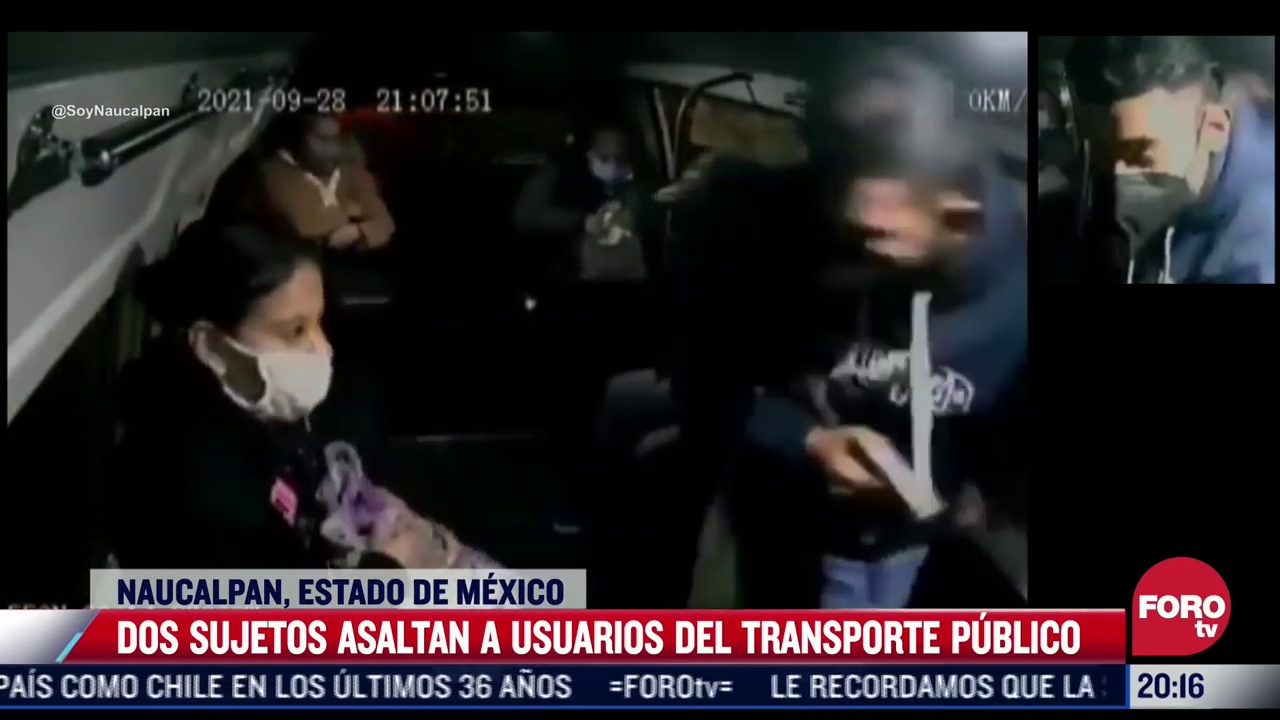pistol: (843, 428, 949, 523)
